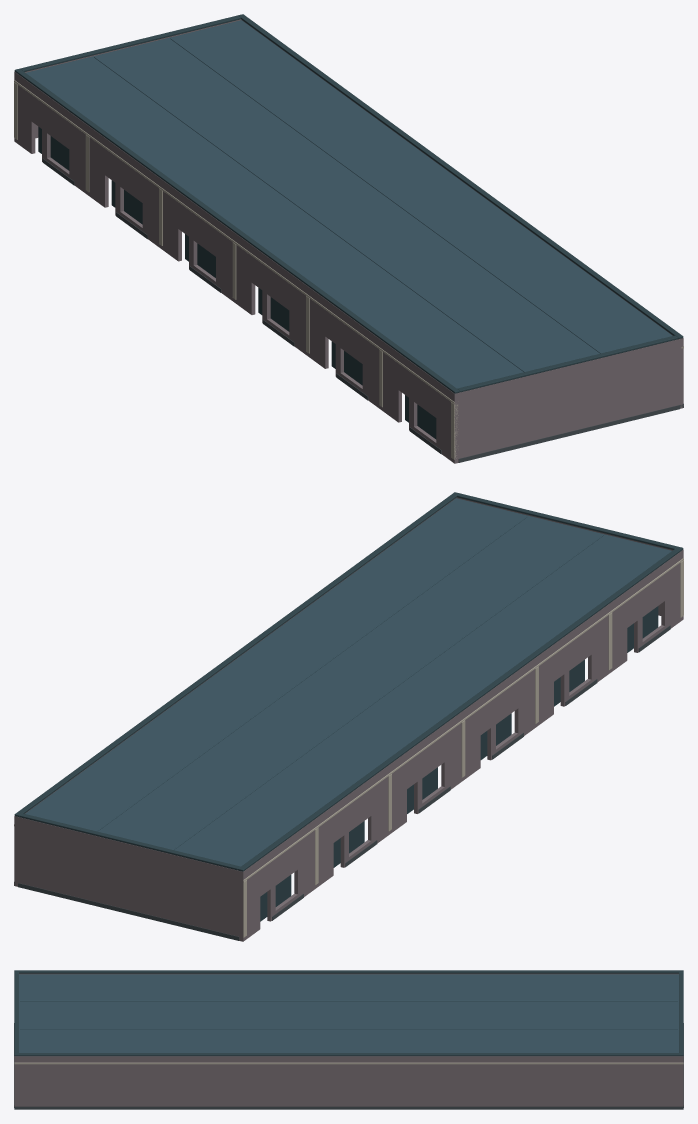
The model's file is d06_southern_shopping_parade_01.glb.
3 renders of one model, top to bottom at view 1: azimuth 30°, elevation 25°; view 2: azimuth 150°, elevation 25°; view 3: azimuth 270°, elevation 25°, orthographic. The views are drawn at different scales.
Visible parts, largest first — view 1: D06SouthernShoppingParade01_Mesh; view 2: D06SouthernShoppingParade01_Mesh; view 3: D06SouthernShoppingParade01_Mesh.
Part boxes in pixels (<box>): D06SouthernShoppingParade01_Mesh: <box>14,14,683,463</box>; D06SouthernShoppingParade01_Mesh: <box>14,492,683,941</box>; D06SouthernShoppingParade01_Mesh: <box>14,970,683,1109</box>.
Size of the model in its own units: 18.09 by 5.4 by 60.07.
